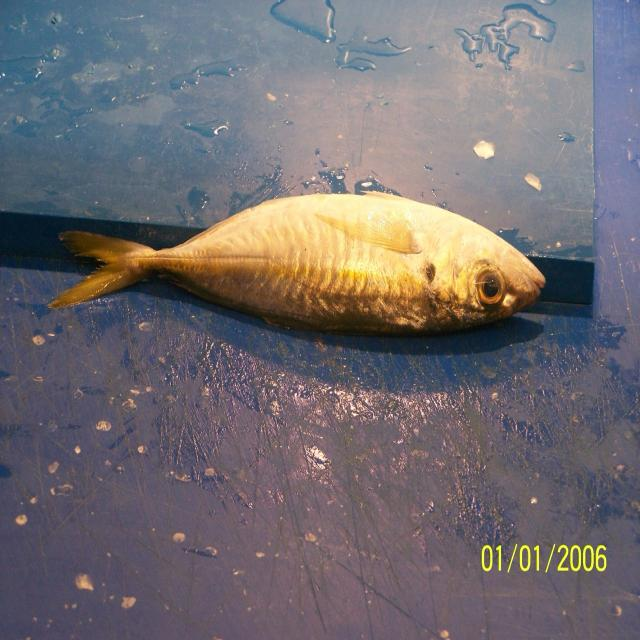Hourse-Mackerel-istavrit-: (47, 192, 547, 339)
